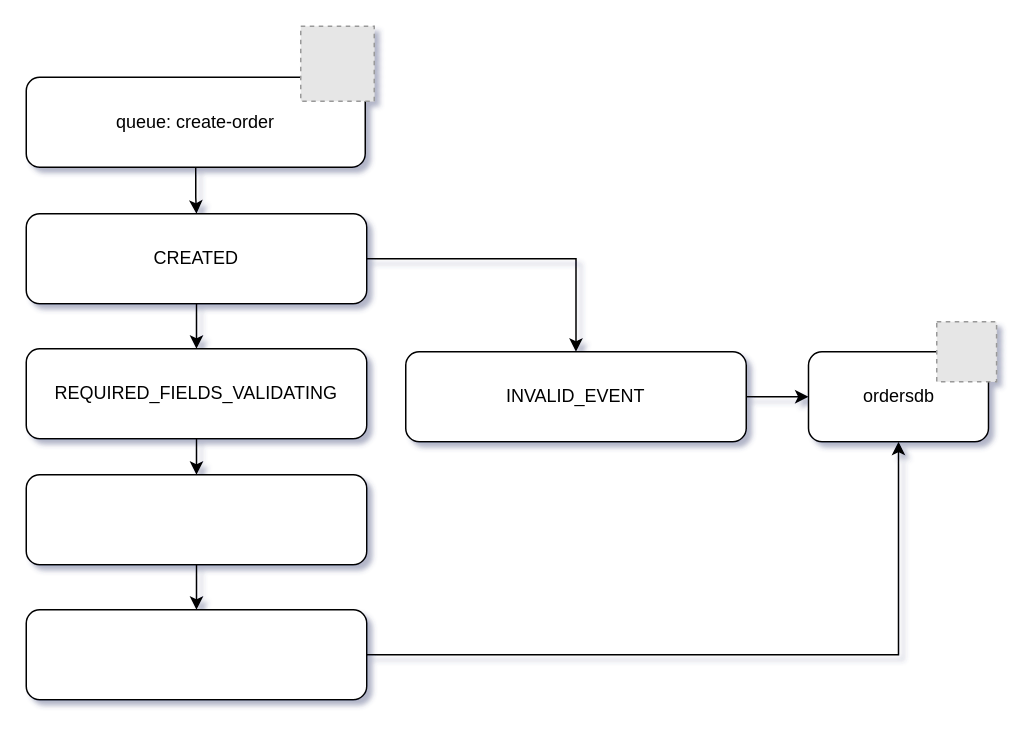
The diagram is 1032 pixels wide and 735 high, and some of its shapes have lost their labels. Grey dashed boxes stand in for pictures. The shapes that lost their labels are listed below. From the top down, each one's centre as x and y in pixels, then its label:
(196,519): SEND_MAIL
(196,654): END_PROCESSING
